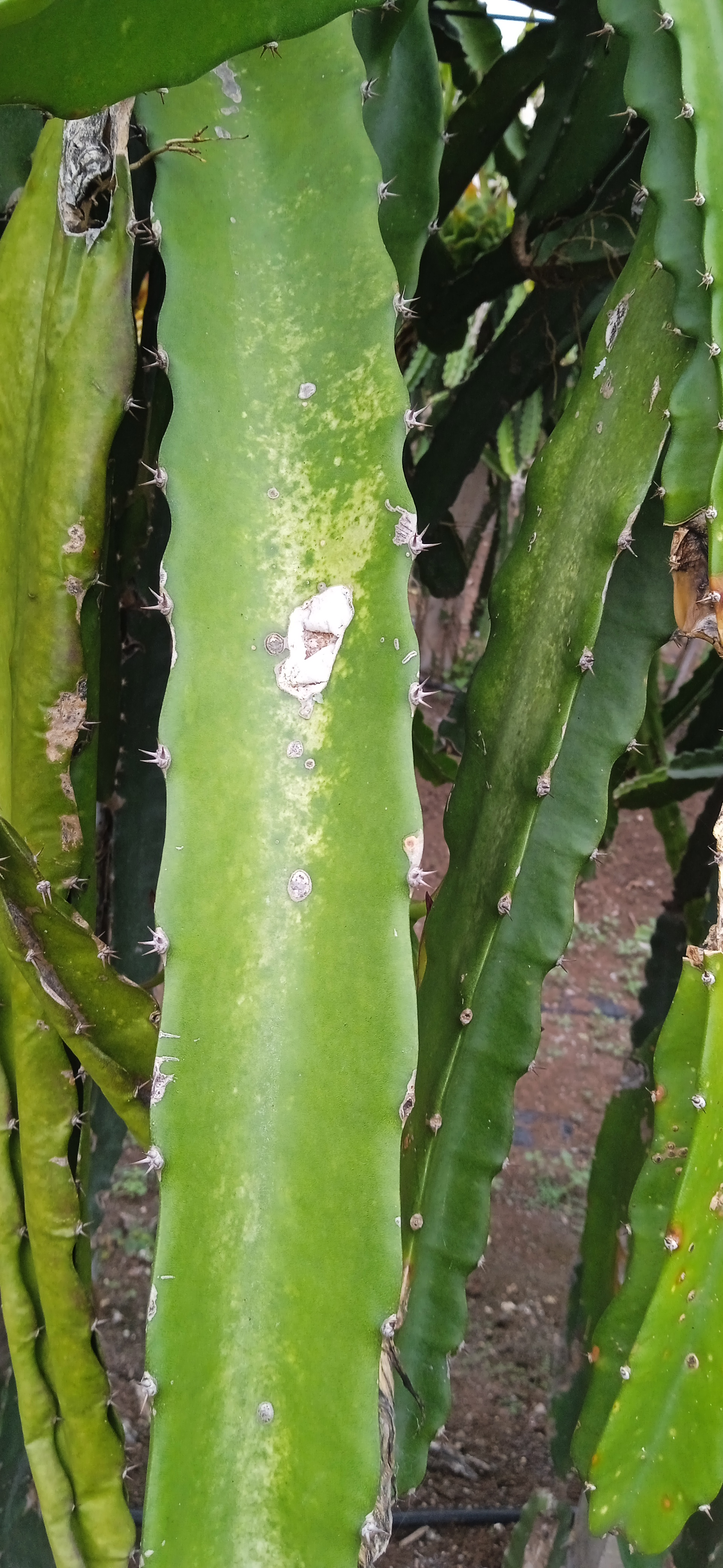stemcanker: (124, 77, 452, 1567), (420, 256, 723, 1260), (1, 520, 108, 959)
